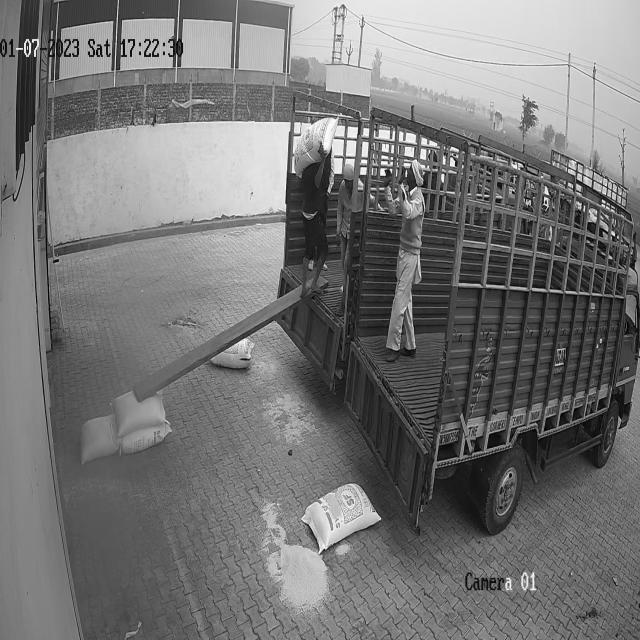sack: (300, 482, 381, 551), (293, 117, 337, 175), (112, 392, 165, 435), (79, 414, 120, 464), (122, 424, 172, 453), (211, 338, 254, 370)
